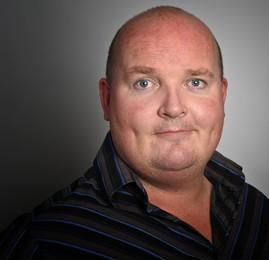face: (112, 42, 224, 178)
